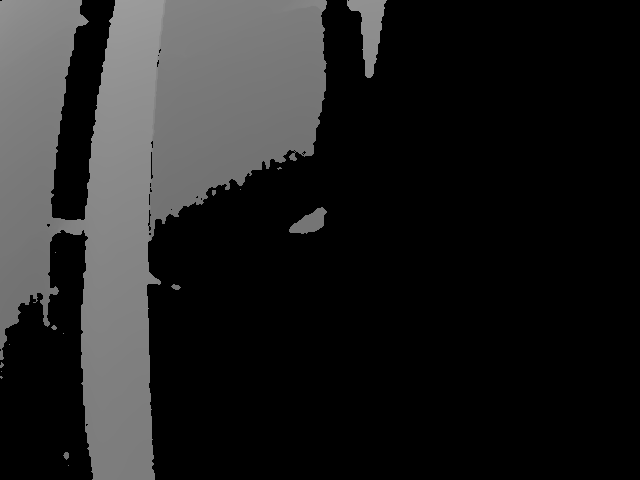high: (158, 174, 179, 203)
low: (125, 175, 143, 206)
